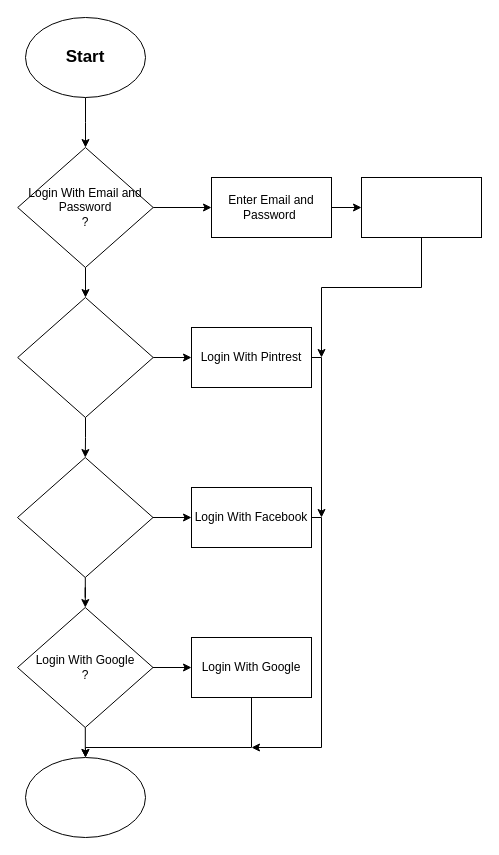
Image size: 499x855. Some labels were removed from this diagram. Each missing label, with the box of its shape:
END: (24, 756, 146, 838)
Login with Email and Password using Firebase auth: (360, 176, 482, 238)
Login With Facebook ?: (16, 456, 153, 578)
Login With Pintrest ?: (17, 296, 153, 418)
